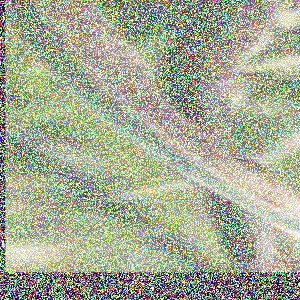Leaf_Blast: (26, 0, 141, 120)
